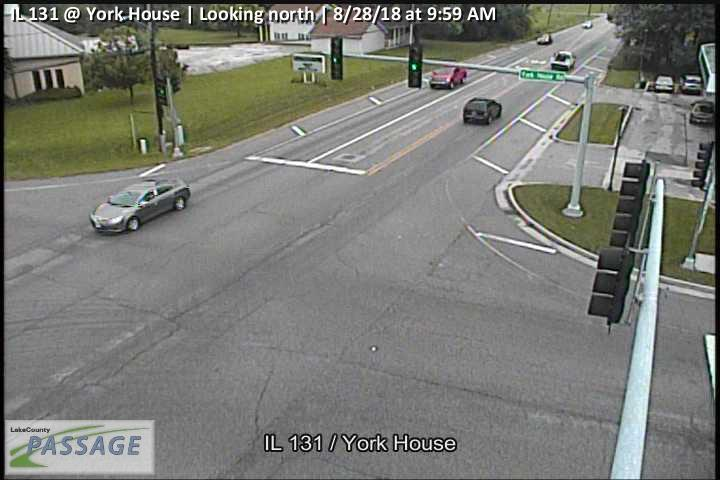SUV: (462, 98, 503, 123)
Sedan: (88, 175, 191, 232), (428, 61, 467, 88), (550, 49, 578, 69)
